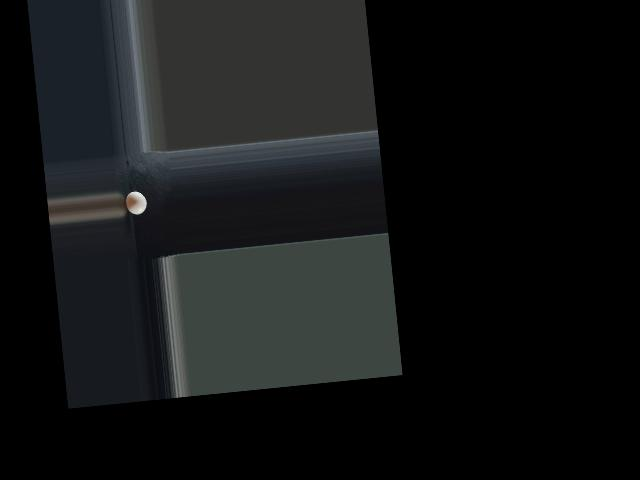egg: (124, 189, 147, 214)
